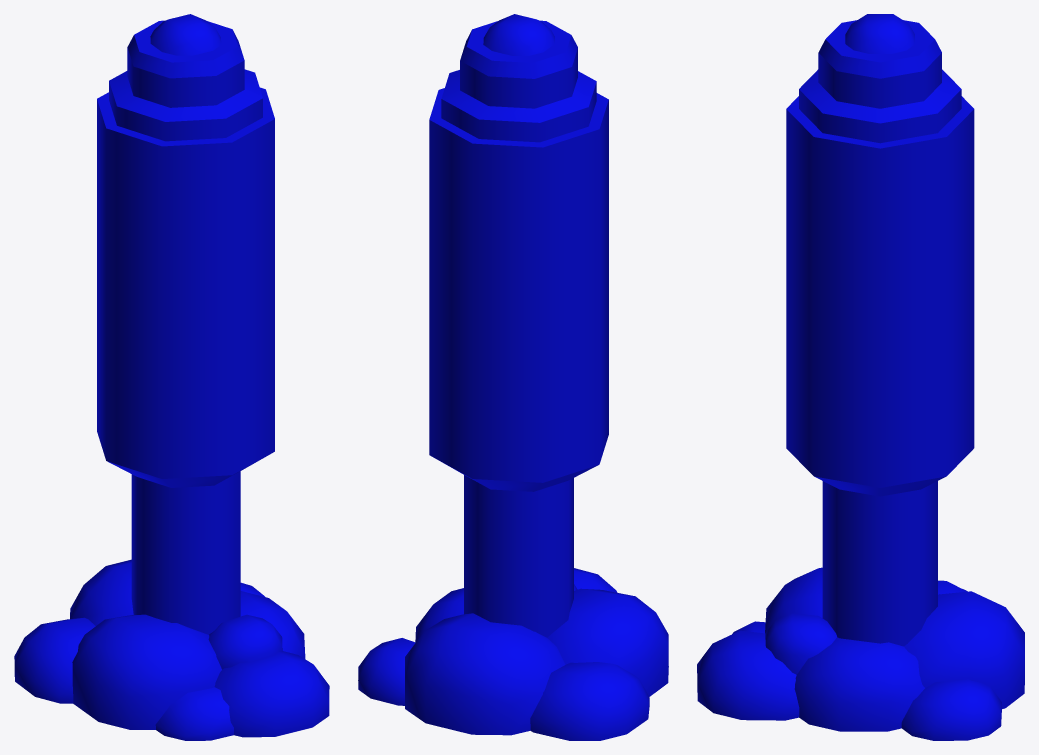
Rendered from SensorDart.FBX.
The picture shows the model from 3 angles, left to right: view 1: azimuth 30°, elevation 25°; view 2: azimuth 150°, elevation 25°; view 3: azimuth 270°, elevation 25°; orthographic projection. The views are drawn at different scales.
Visible parts, largest first — view 1: SensorDart_Low; view 2: SensorDart_Low; view 3: SensorDart_Low.
Boxes of the visible parts, box(x1,y1,x2,y2) form: SensorDart_Low: box(14, 14, 329, 740); SensorDart_Low: box(358, 14, 668, 740); SensorDart_Low: box(697, 14, 1024, 740).
Bounding box in the file's own units: 3.7 × 8.94 × 4.01.
